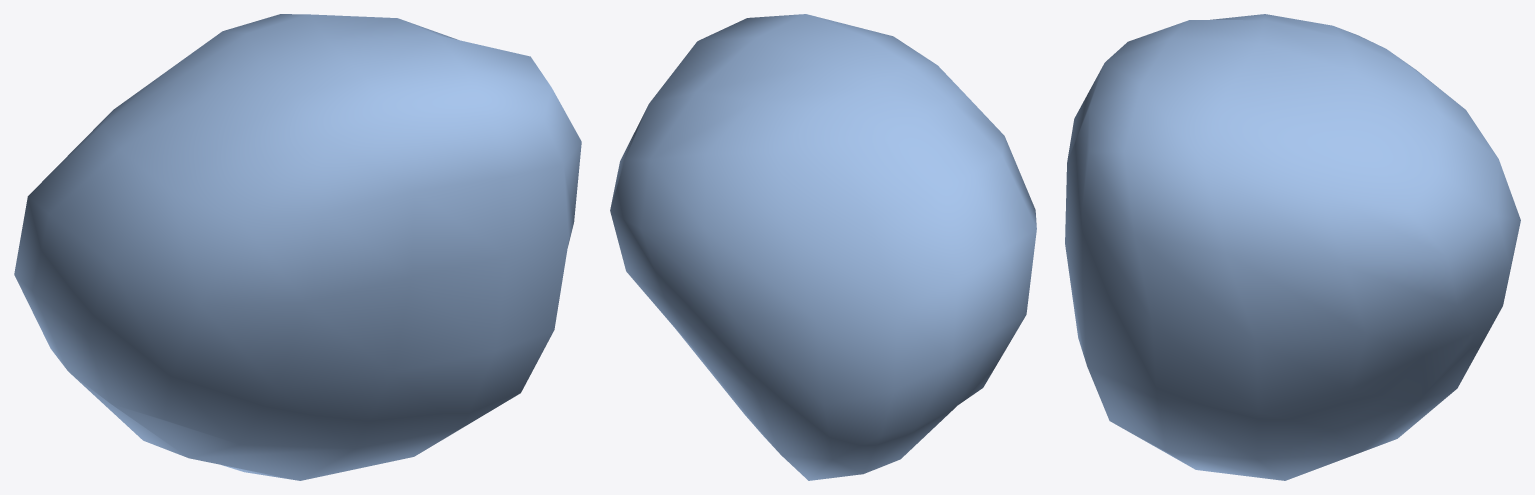
The model's file is Rock1.fbx.
3 views of the same model, side by side, from view 1: azimuth 30°, elevation 25°; view 2: azimuth 150°, elevation 25°; view 3: azimuth 270°, elevation 25° (orthographic). The views are drawn at different scales.
Visible parts, largest first — view 1: Rock; view 2: Rock; view 3: Rock.
Part boxes in pixels (x1,y1,x2,y2): Rock: (14, 14, 581, 480); Rock: (610, 14, 1036, 480); Rock: (1065, 14, 1520, 480).
Bounding box in the file's own units: 29.14 × 26.85 × 25.34.
